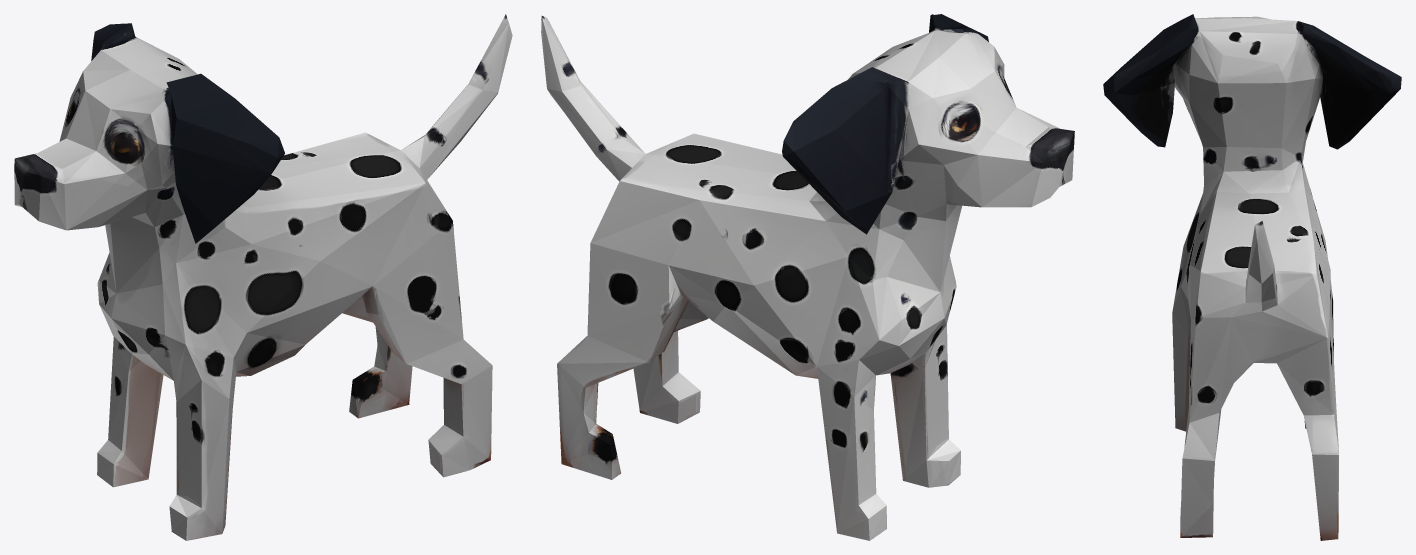
3 views of the same model, side by side, from view 1: azimuth 30°, elevation 25°; view 2: azimuth 150°, elevation 25°; view 3: azimuth 270°, elevation 25° (orthographic). The views are drawn at different scales.
Parts seen in each view (by area): view 1: Figure; view 2: Figure; view 3: Figure.
Part boxes in pixels (left/top/right/bottom): Figure: left=14, top=14, right=512, bottom=540; Figure: left=541, top=14, right=1074, bottom=540; Figure: left=1103, top=14, right=1401, bottom=540.
Size of the model in its own units: 0.5371 by 0.4637 by 0.316.
1 material, 1 textured.
